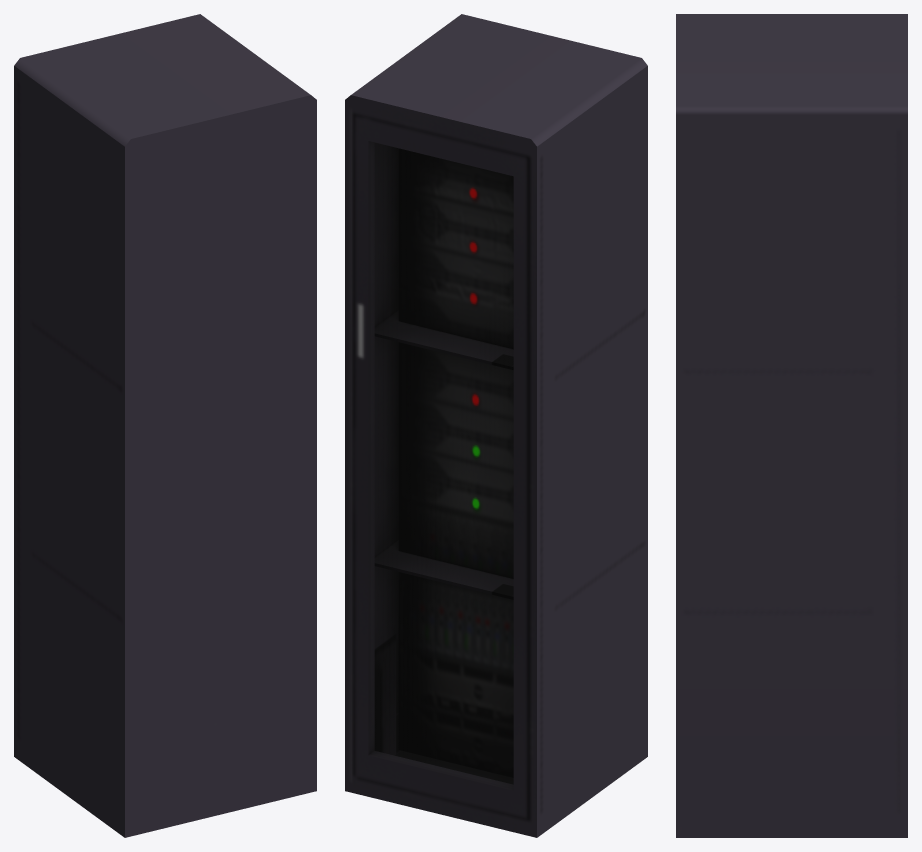
The model's file is server_rack.gltf.
3 views of the same model, side by side, from view 1: azimuth 30°, elevation 25°; view 2: azimuth 150°, elevation 25°; view 3: azimuth 270°, elevation 25° (orthographic). The views are drawn at different scales.
Visible parts, largest first — view 1: Object_3; view 2: Object_3; view 3: Object_3.
Part boxes in pixels (x1,y1,x2,y2): Object_3: (14,14,316,837); Object_3: (345,14,647,837); Object_3: (676,14,907,837).
Size of the model in its own units: 4.01 by 13.92 by 4.01.
Materials: 2 (1 with a texture image).
